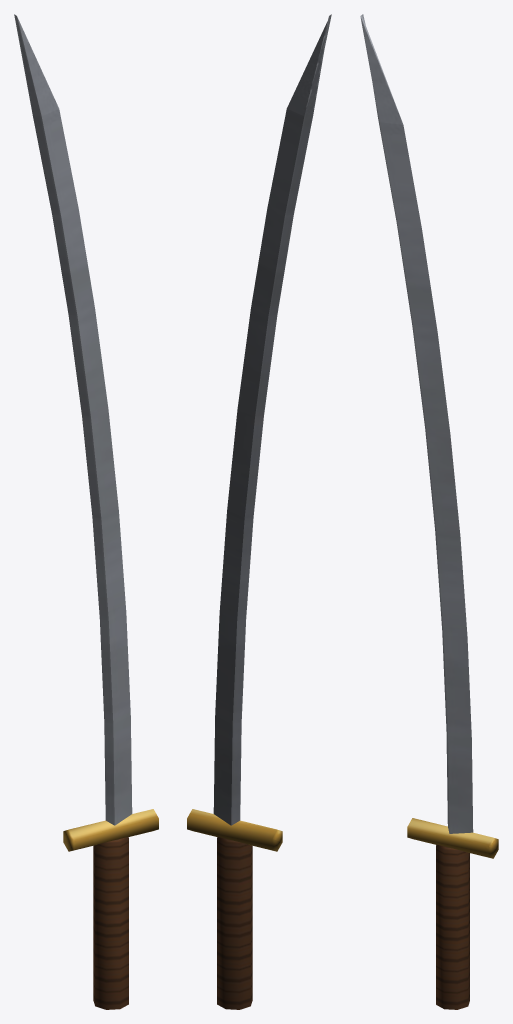
File: sabre.glb
3 views of the same model, side by side, from view 1: azimuth 30°, elevation 25°; view 2: azimuth 150°, elevation 25°; view 3: azimuth 330°, elevation 25° (orthographic). The views are drawn at different scales.
Parts seen in each view (by area): view 1: sabre; view 2: sabre; view 3: sabre.
Boxes of the visible parts, x1,y1,x2,y2 form: sabre: [14, 14, 158, 1009]; sabre: [187, 14, 331, 1009]; sabre: [360, 14, 498, 1009].
Size of the model in its own units: 0.13 by 0.91 by 0.03.
1 material, 1 textured.
